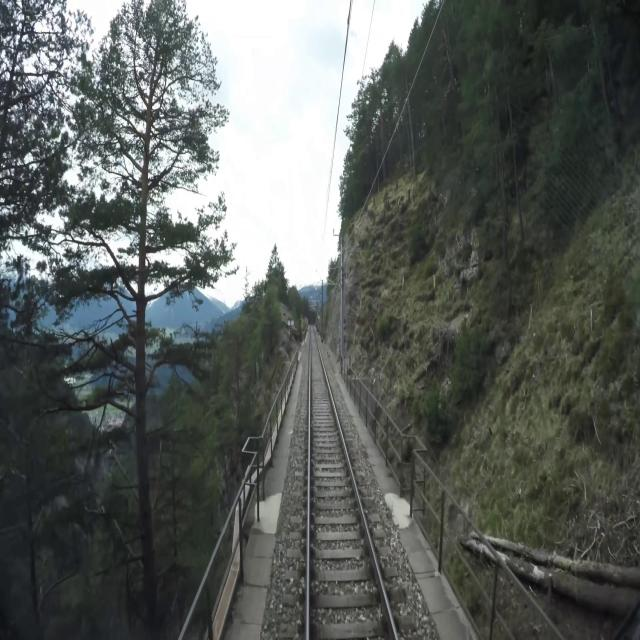rail-track: (310, 329, 394, 639)
